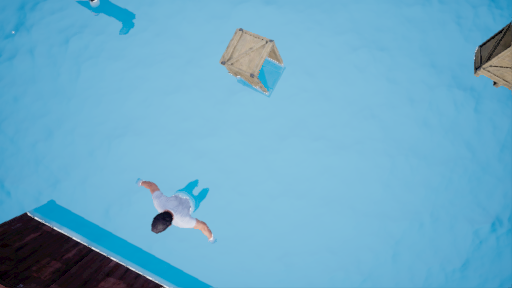person: (145, 177, 216, 244)
